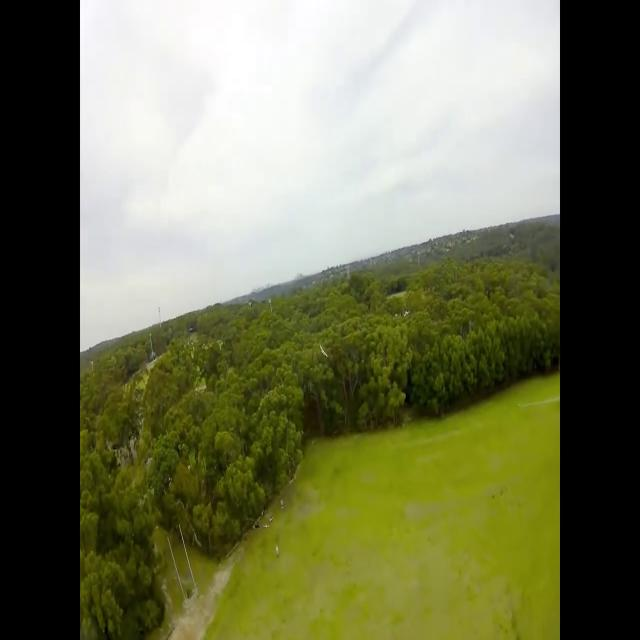iha: (323, 346, 327, 359)
